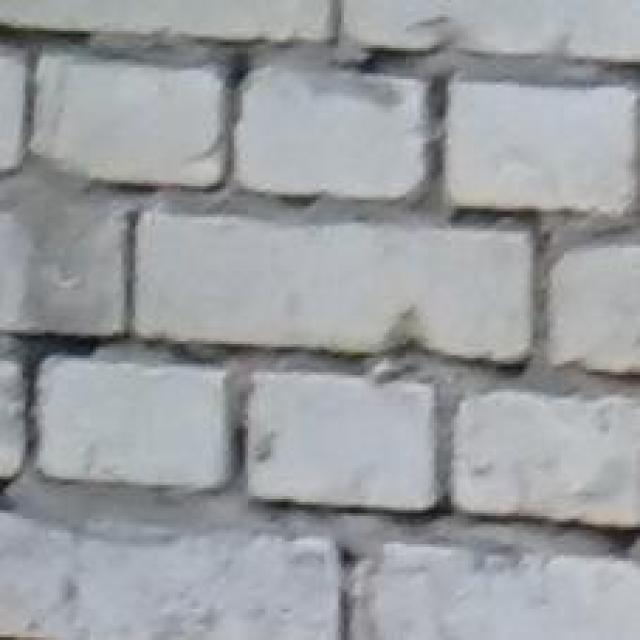Crack: (0, 104, 640, 594)
